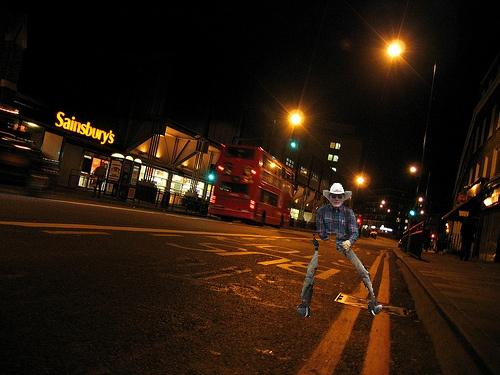tampered: (298, 184, 382, 317)
